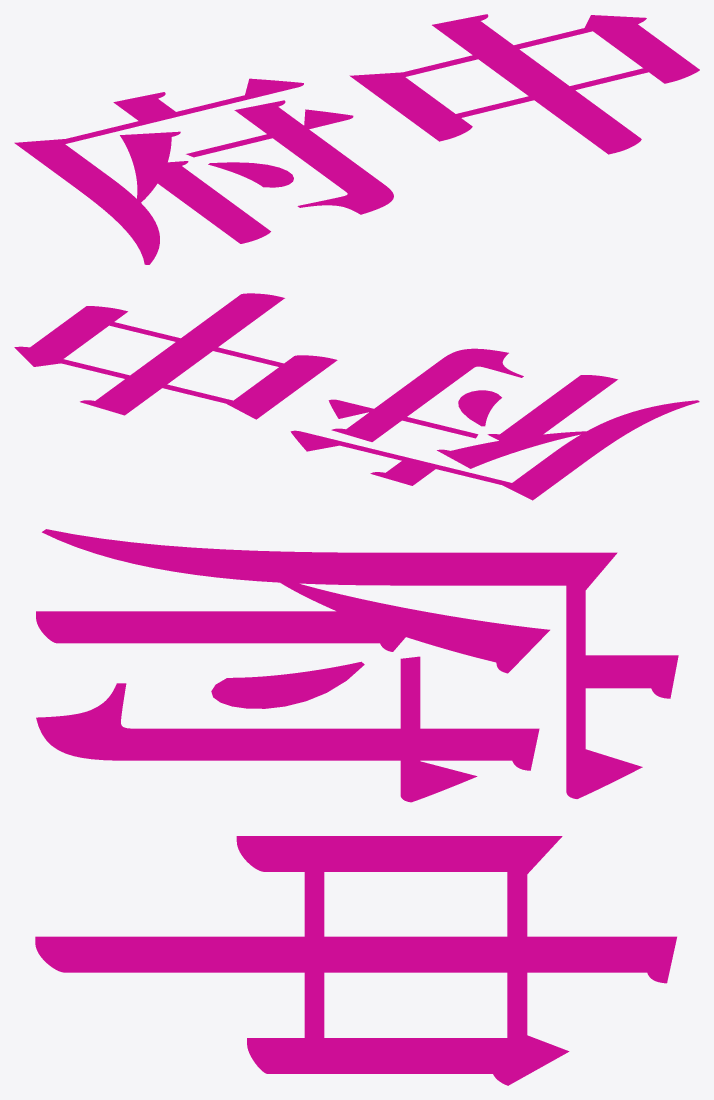
File: huchu.fbx
3 renders of one model, top to bottom at view 1: azimuth 30°, elevation 25°; view 2: azimuth 150°, elevation 25°; view 3: azimuth 270°, elevation 25°, orthographic. The views are drawn at different scales.
Parts seen in each view (by area): view 1: Text; view 2: Text; view 3: Text.
Boxes of the visible parts, bbox=[...] form: Text: bbox=[14, 14, 699, 264]; Text: bbox=[14, 293, 699, 500]; Text: bbox=[35, 529, 678, 1085].
Bounding box in the file's own units: 67.43 × 5.36e-06 × 32.92.
